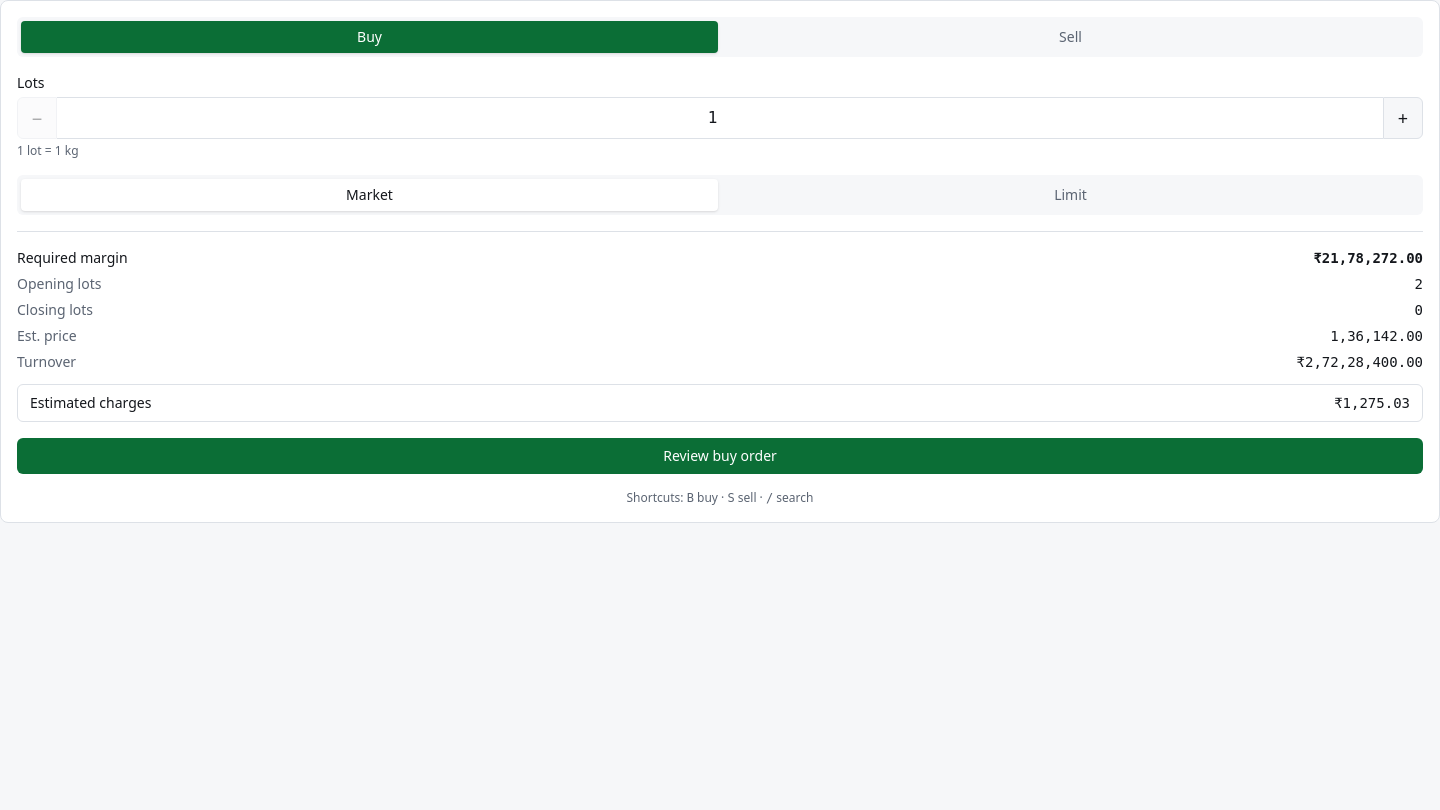
it: order ticket: preview › shows margin, opening/closing lots, turnover and the charges breakdown
Expected: the text "₹21,78,272.00" is shown, [1313, 248, 1423, 268]
Expected: the text "2" is shown, [1415, 274, 1423, 294]
Click the text "Estimated charges": (91, 403) [30, 393, 151, 413]
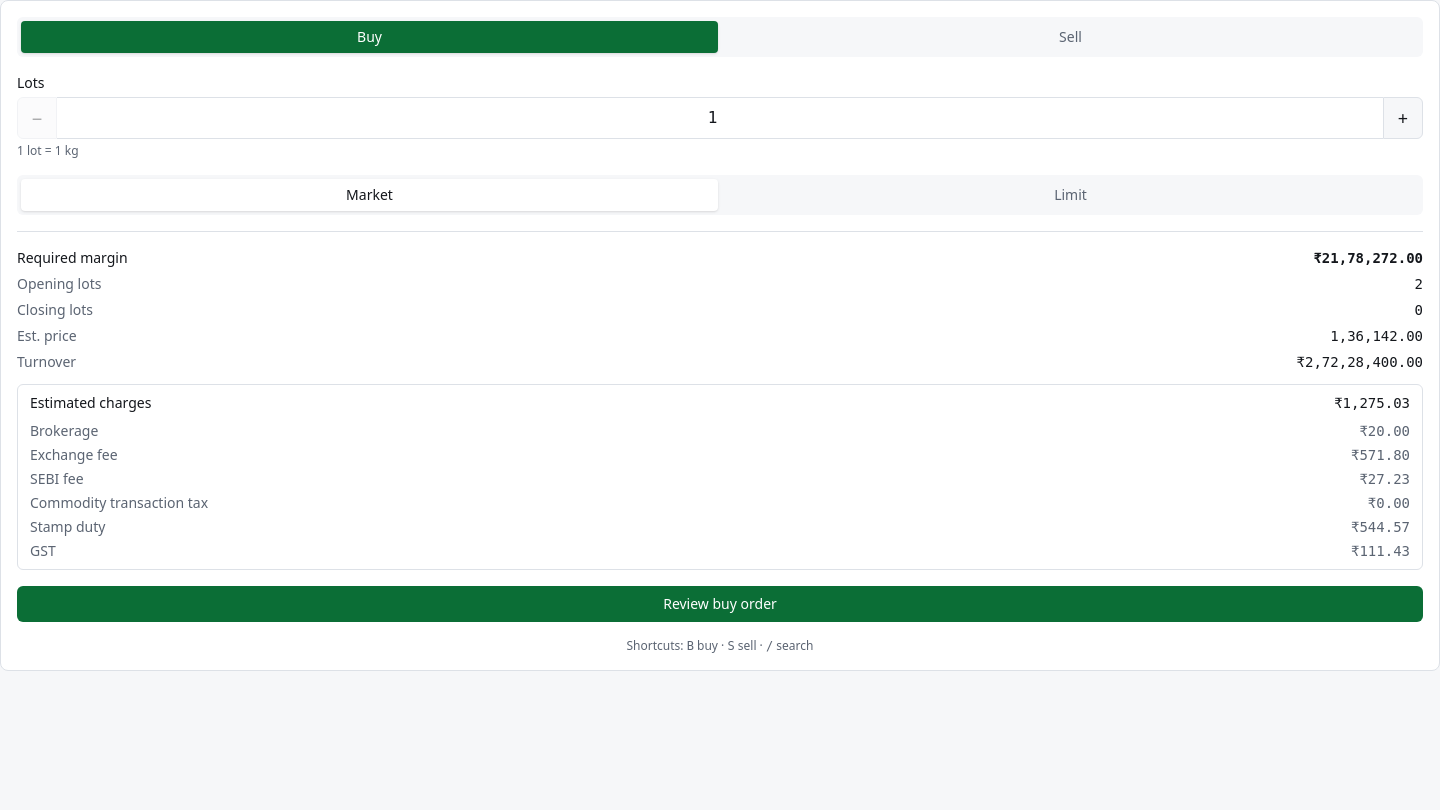
Expected: the text "₹1,275.03" is shown, [1334, 393, 1410, 413]
Result: the text "₹571.80" is shown at [1351, 445, 1410, 465]
Result: the text "₹544.57" is shown at [1351, 517, 1410, 537]
